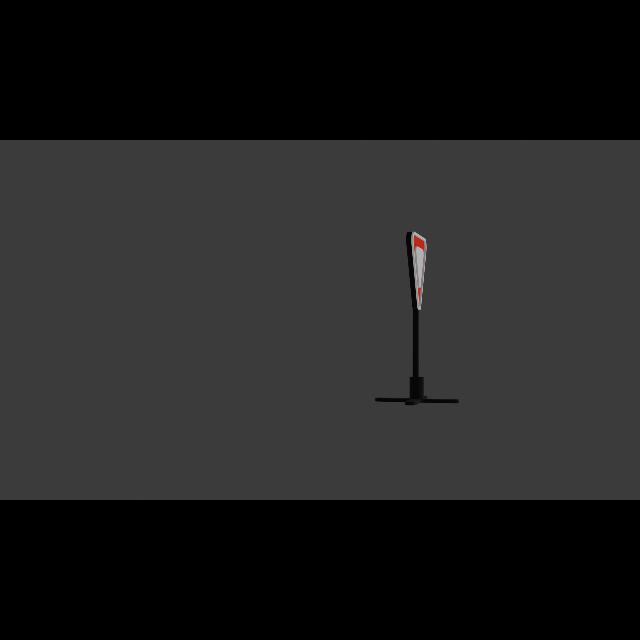sign_yield: (408, 231, 430, 313)
